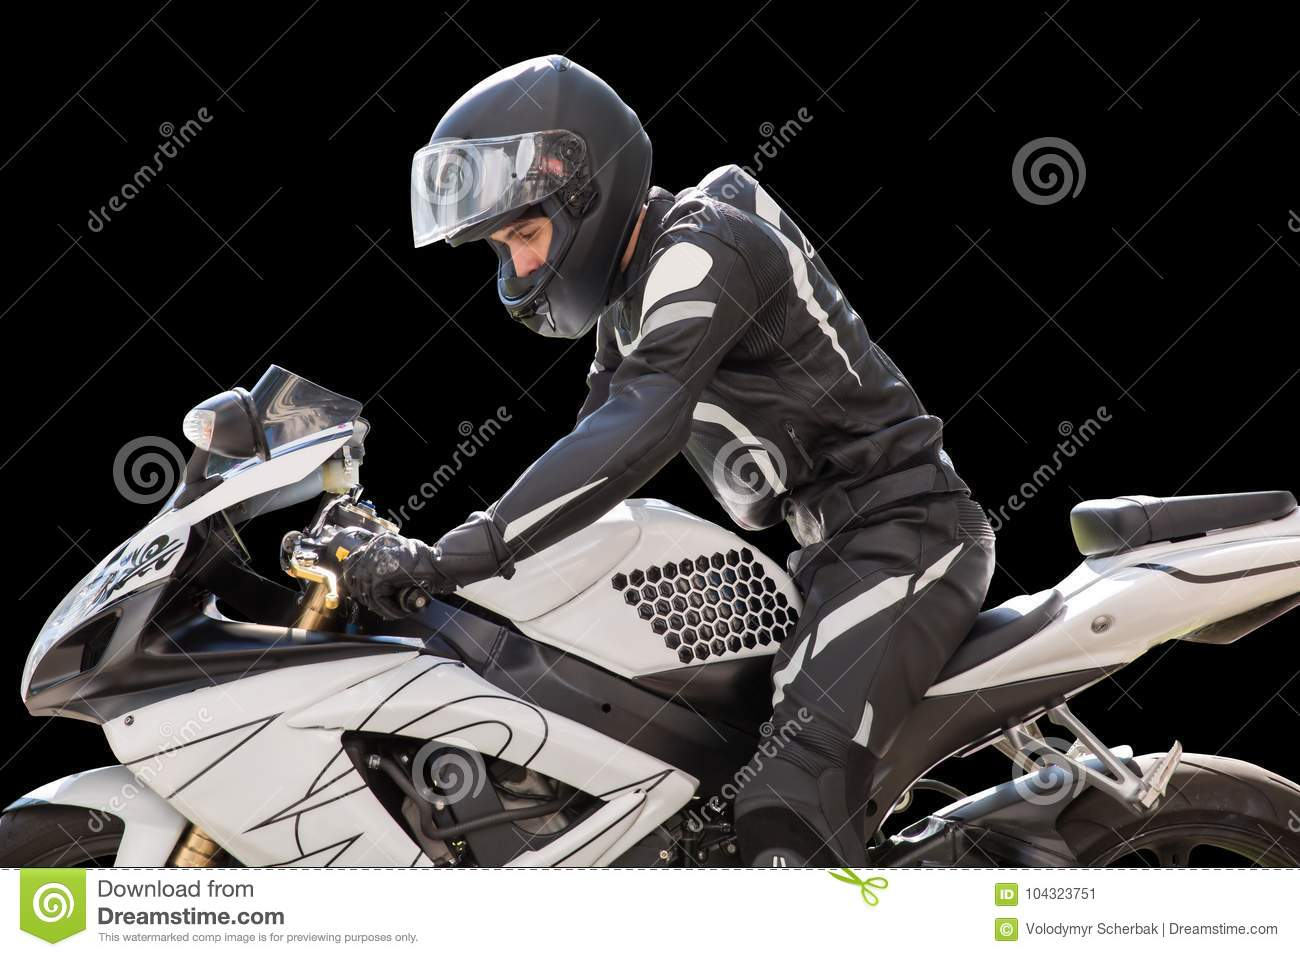helmet: (427, 57, 649, 326)
